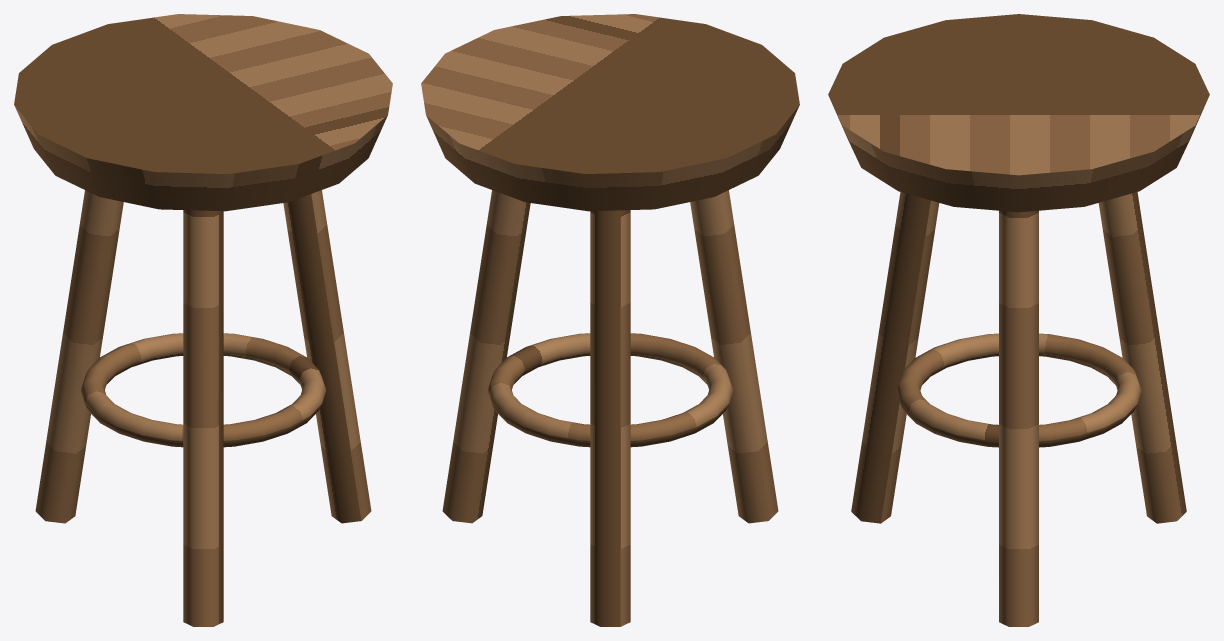
Rendered from stool.glb.
3 views of the same model, side by side, from view 1: azimuth 30°, elevation 25°; view 2: azimuth 150°, elevation 25°; view 3: azimuth 270°, elevation 25° (orthographic).
Visible parts, largest first — view 1: dyn_wood_variant; view 2: dyn_wood_variant; view 3: dyn_wood_variant.
Boxes of the visible parts, left/top/right/bottom form: dyn_wood_variant: left=14, top=14, right=392, bottom=626; dyn_wood_variant: left=421, top=14, right=799, bottom=626; dyn_wood_variant: left=828, top=14, right=1209, bottom=626.
Bounding box in the file's own units: 0.3801 × 0.5029 × 0.3801.
Materials: 1 (1 with a texture image).
